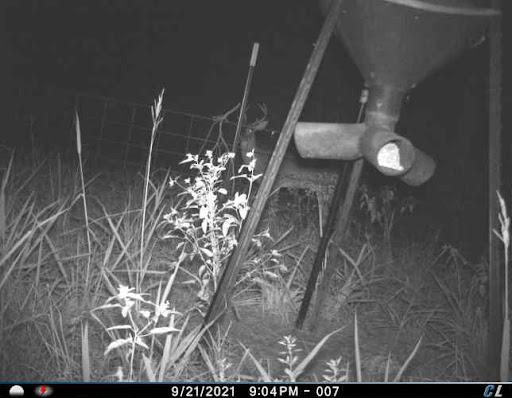Deer: (230, 95, 347, 231)
